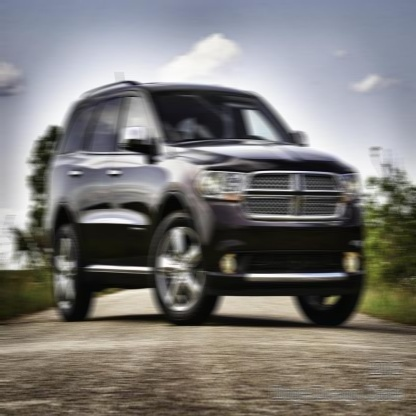Vehicle: (43, 71, 367, 328)
